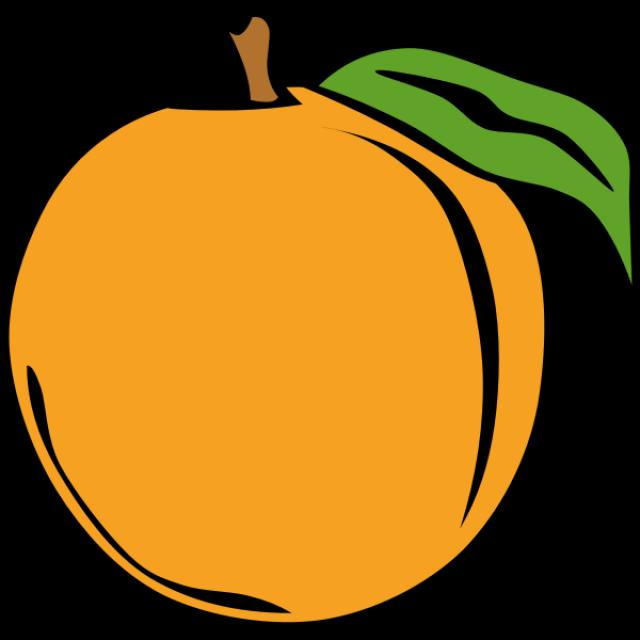orange: (10, 48, 602, 608)
